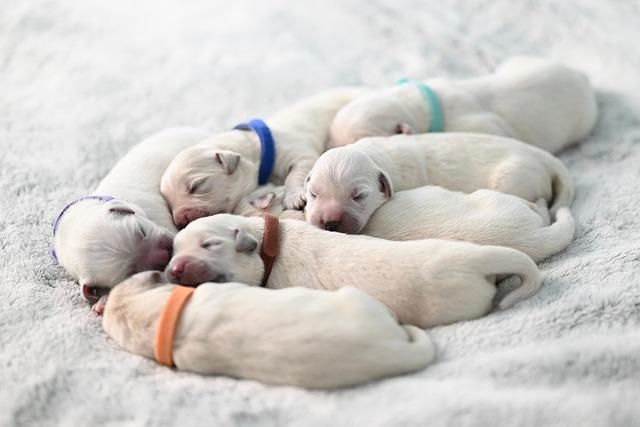Non_Gorille: (44, 16, 584, 392)
